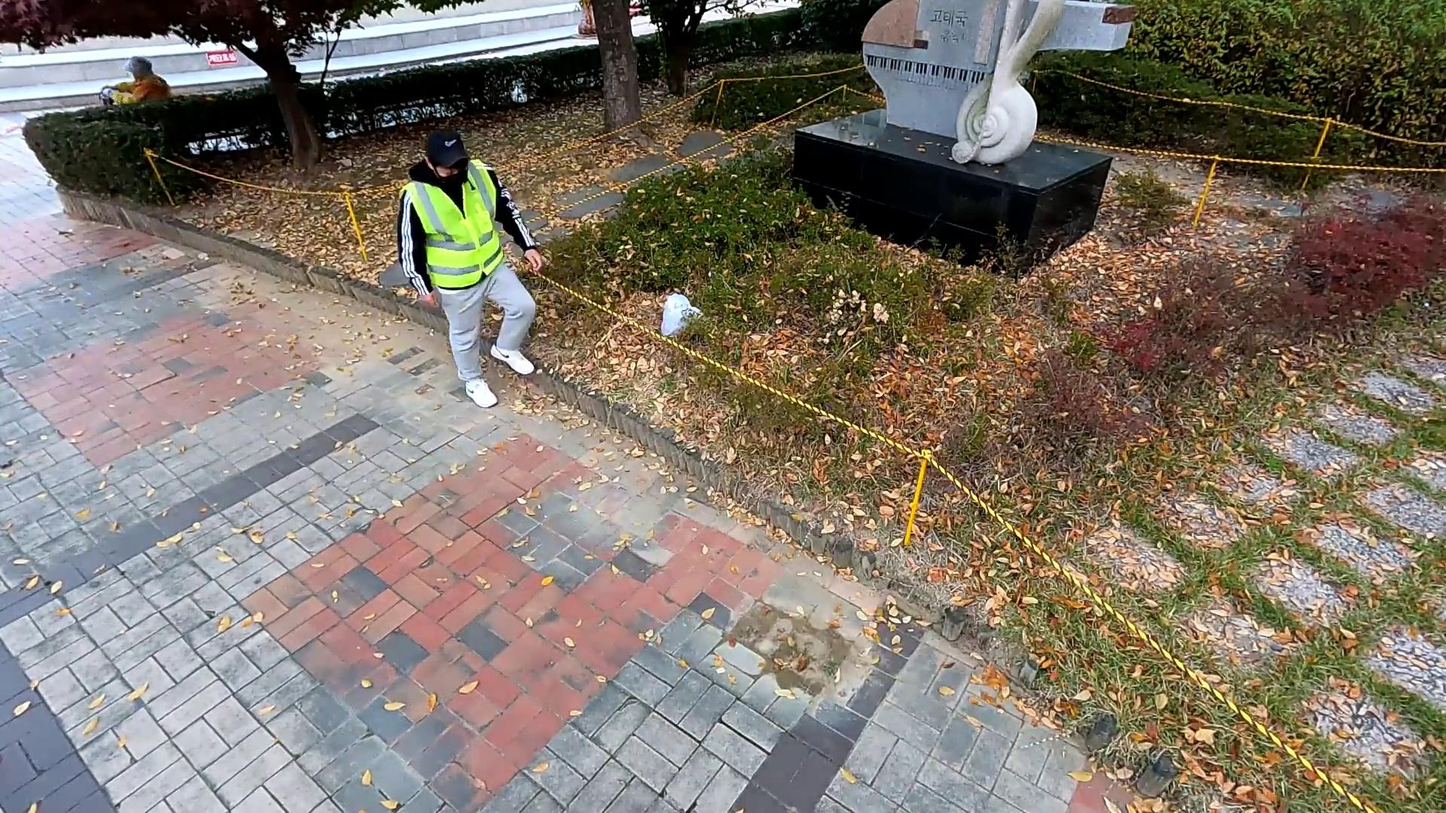person: (399, 126, 552, 411)
trash: (656, 291, 711, 336)
